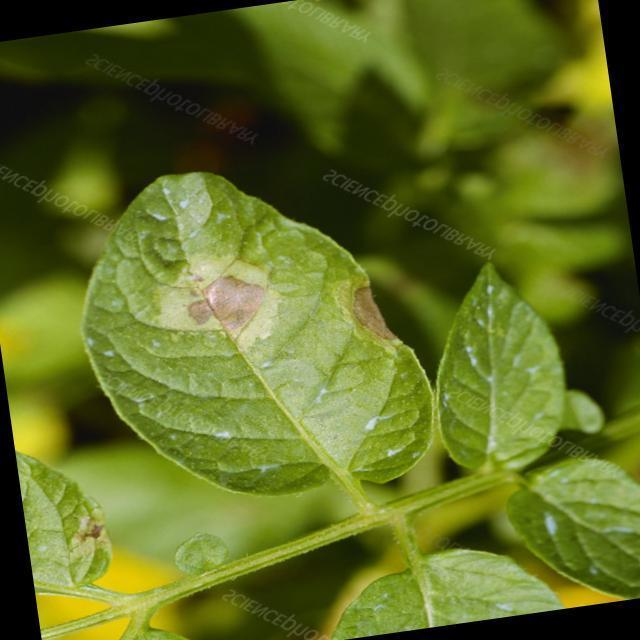Healthy Leaf: (420, 237, 582, 476), (164, 524, 238, 586)
